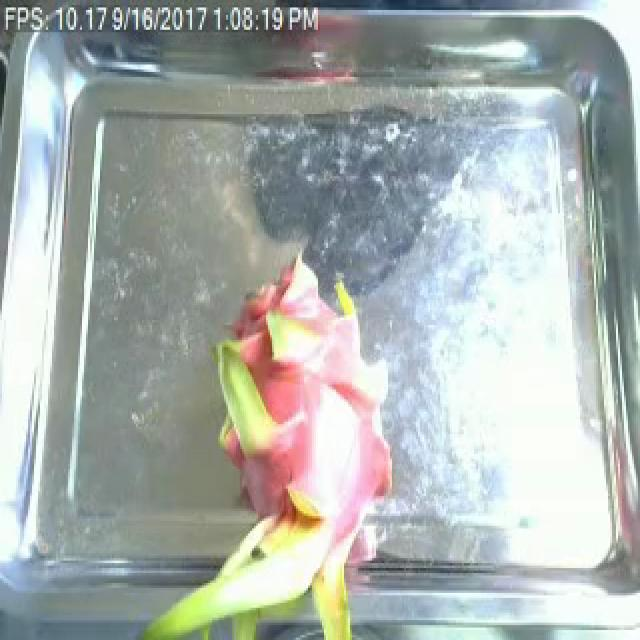fruit: (182, 238, 396, 640)
